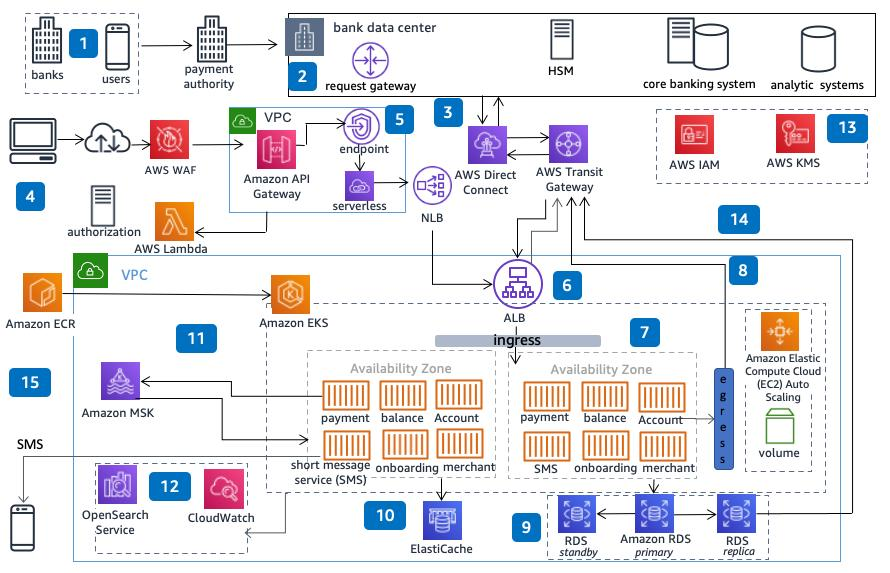API Gateway: (259, 130, 295, 168), (552, 128, 587, 162)
Auth: (778, 115, 815, 152), (676, 117, 714, 152)
Backend: (519, 375, 574, 417), (520, 428, 575, 466), (580, 425, 635, 462), (319, 375, 372, 413), (635, 378, 688, 414), (322, 426, 372, 464), (378, 377, 429, 414), (433, 376, 484, 413), (582, 378, 634, 414), (382, 425, 432, 461), (438, 425, 485, 462), (638, 428, 689, 462), (271, 275, 311, 315), (155, 202, 196, 240), (25, 274, 65, 312), (763, 312, 799, 351)
Cache: (425, 504, 460, 536)
Configuration: (205, 469, 245, 508)
Database: (720, 495, 758, 534), (559, 495, 595, 533), (638, 495, 671, 533)
Firewall: (150, 121, 190, 160)
Frontend: (344, 173, 375, 202)
Load Balancer: (482, 261, 544, 304), (418, 167, 451, 206)
Messaging: (102, 364, 138, 400)
Networking: (472, 126, 504, 162)
Search: (98, 468, 134, 504)
